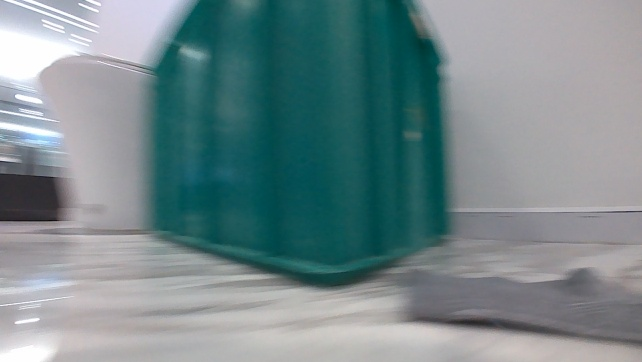socks: (391, 260, 641, 350)
toilet: (29, 49, 155, 235)
